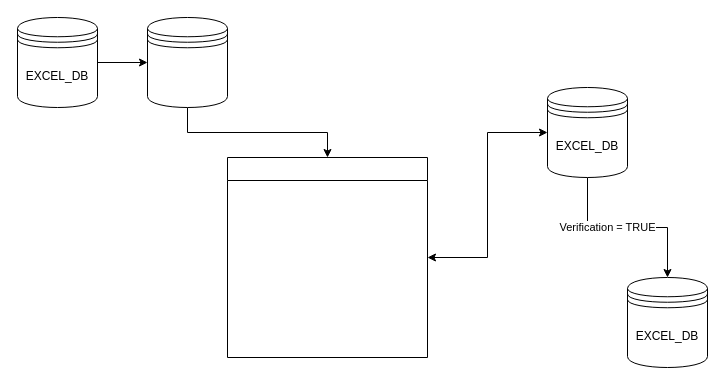
Image size: 725x385. Some labels were removed from this diagram. Each missing label, with the centre of its shape:
"ACCESS_DB" belongs at (x=187, y=62).
"MainForm()" belongs at (x=327, y=257).
